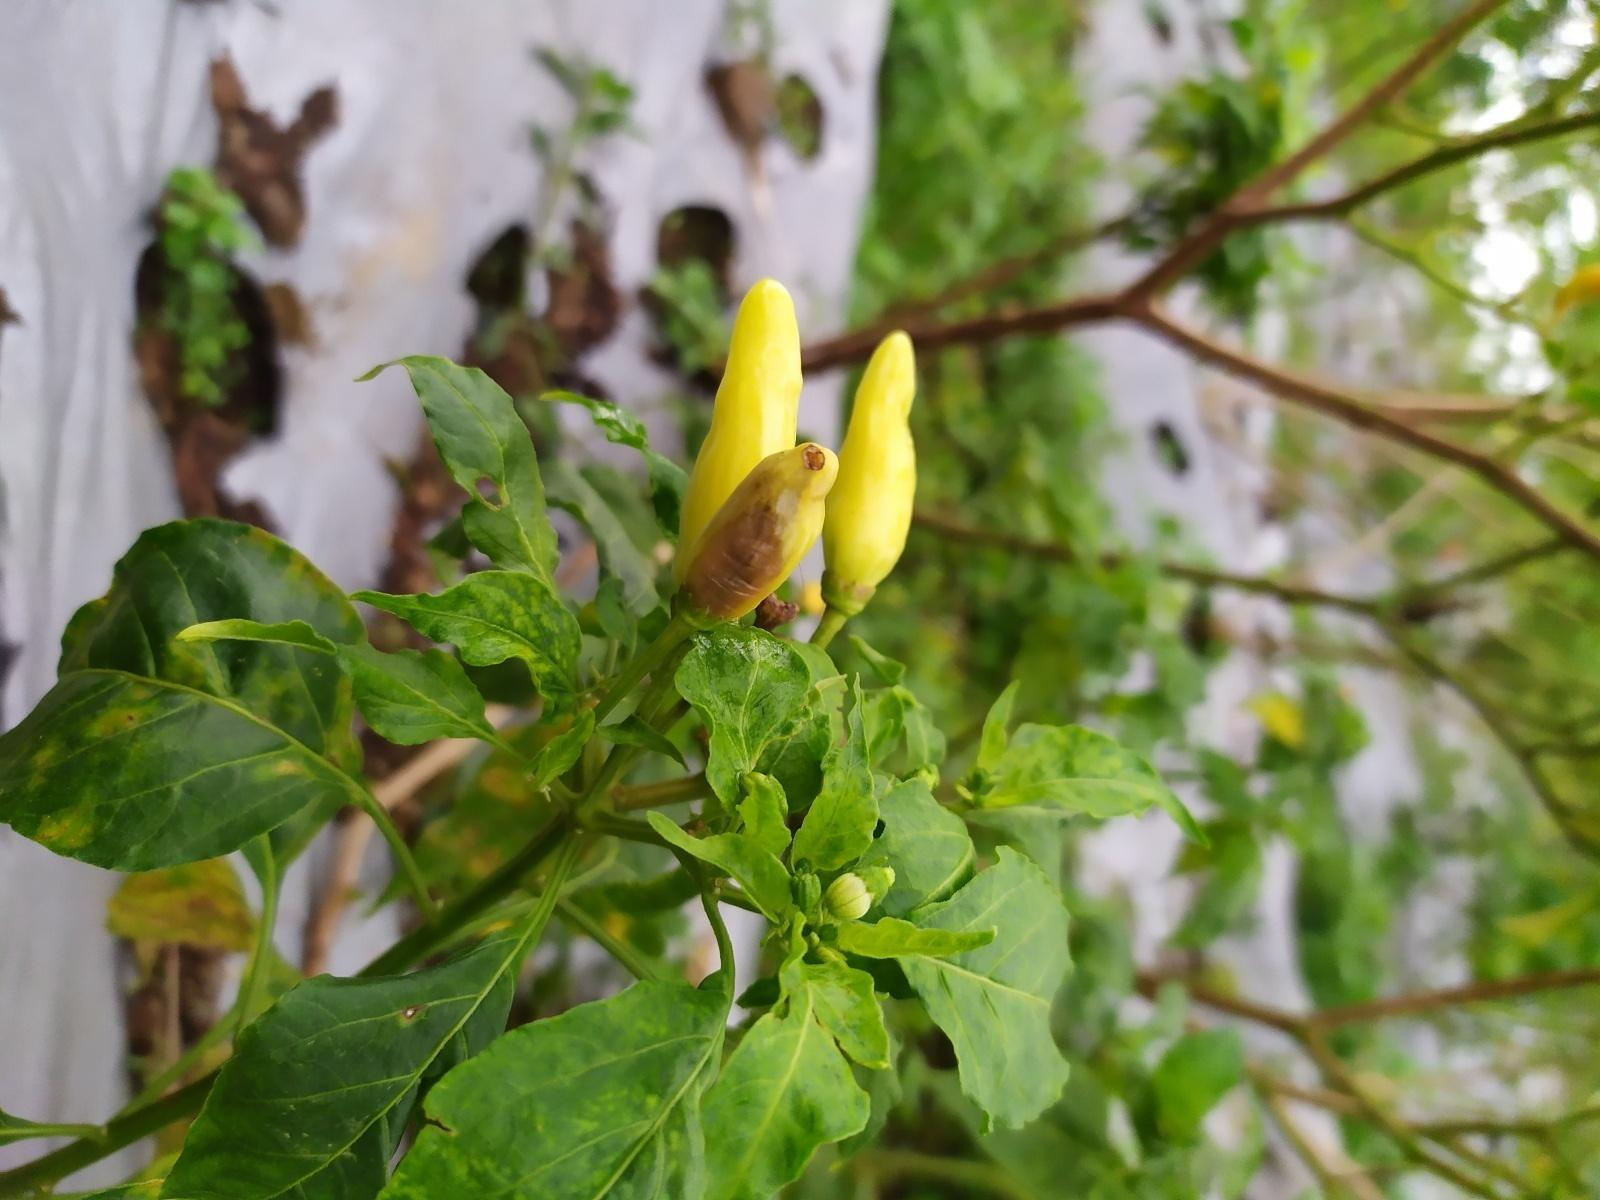cabai_normal: (821, 326, 918, 597)
lalat_buah: (678, 442, 842, 625)
